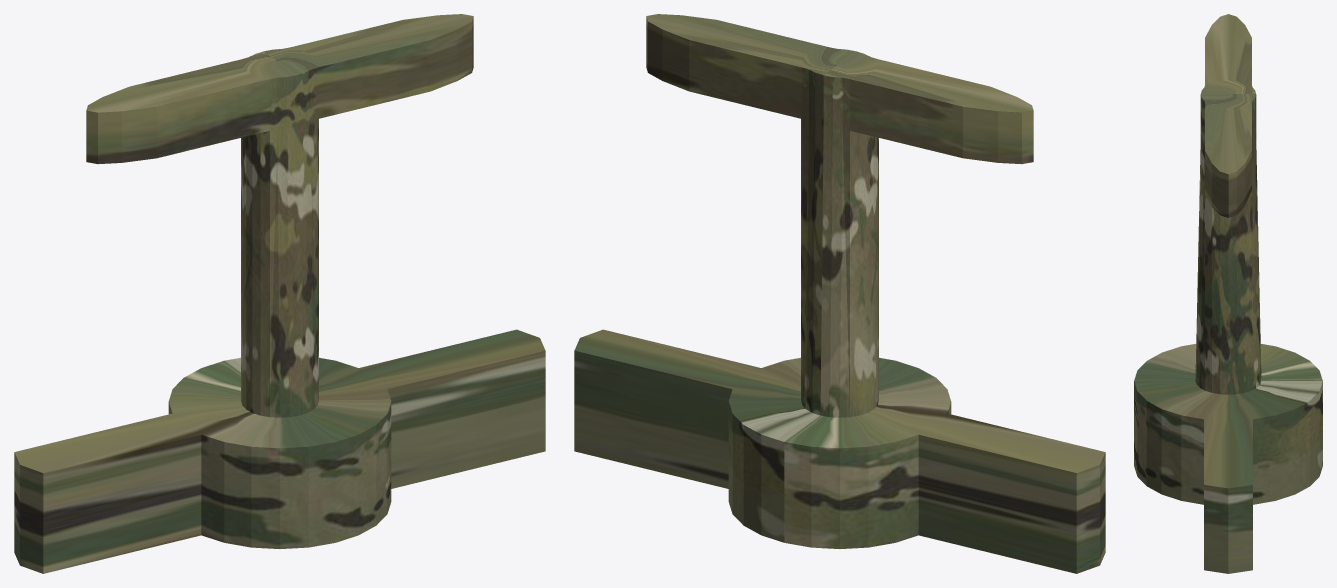
File: Radar.obj
3 views of the same model, side by side, from view 1: azimuth 30°, elevation 25°; view 2: azimuth 150°, elevation 25°; view 3: azimuth 270°, elevation 25° (orthographic). The views are drawn at different scales.
Visible parts, largest first — view 1: Radar; view 2: Radar; view 3: Radar.
Part boxes in pixels (left/top/right/bottom): Radar: left=14, top=14, right=545, bottom=573; Radar: left=574, top=14, right=1105, bottom=573; Radar: left=1134, top=14, right=1322, bottom=573.
Bounding box in the file's own units: 5.4 × 4.35 × 2.
